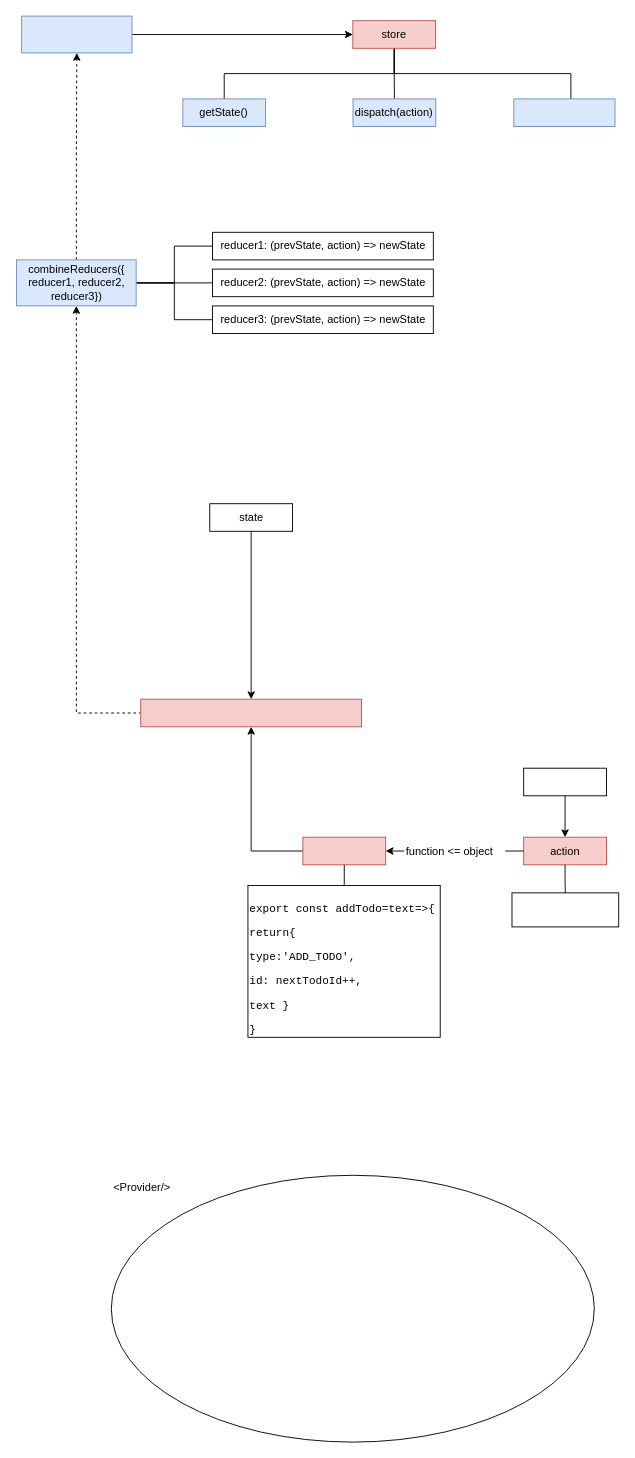
This 635x1458 diagram has some shape labels left out. The shapes that lost their labels are listed below. From the top down, each one's centre as x and y in pixels, then its label:
point (76, 34): createStore(reducers)
point (564, 112): subscribe(listener)
point (251, 712): reducer: (prevState, action) => newState
point (564, 781): action types
point (344, 850): action creator
point (565, 909): {type: ""}
